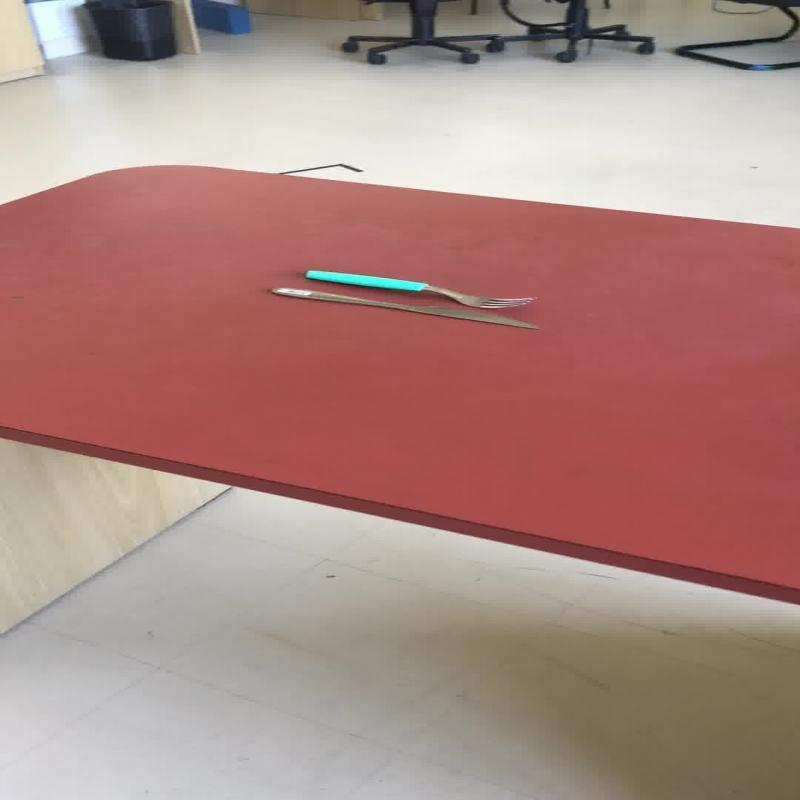fork: (299, 268, 536, 309)
knife: (267, 285, 539, 330)
